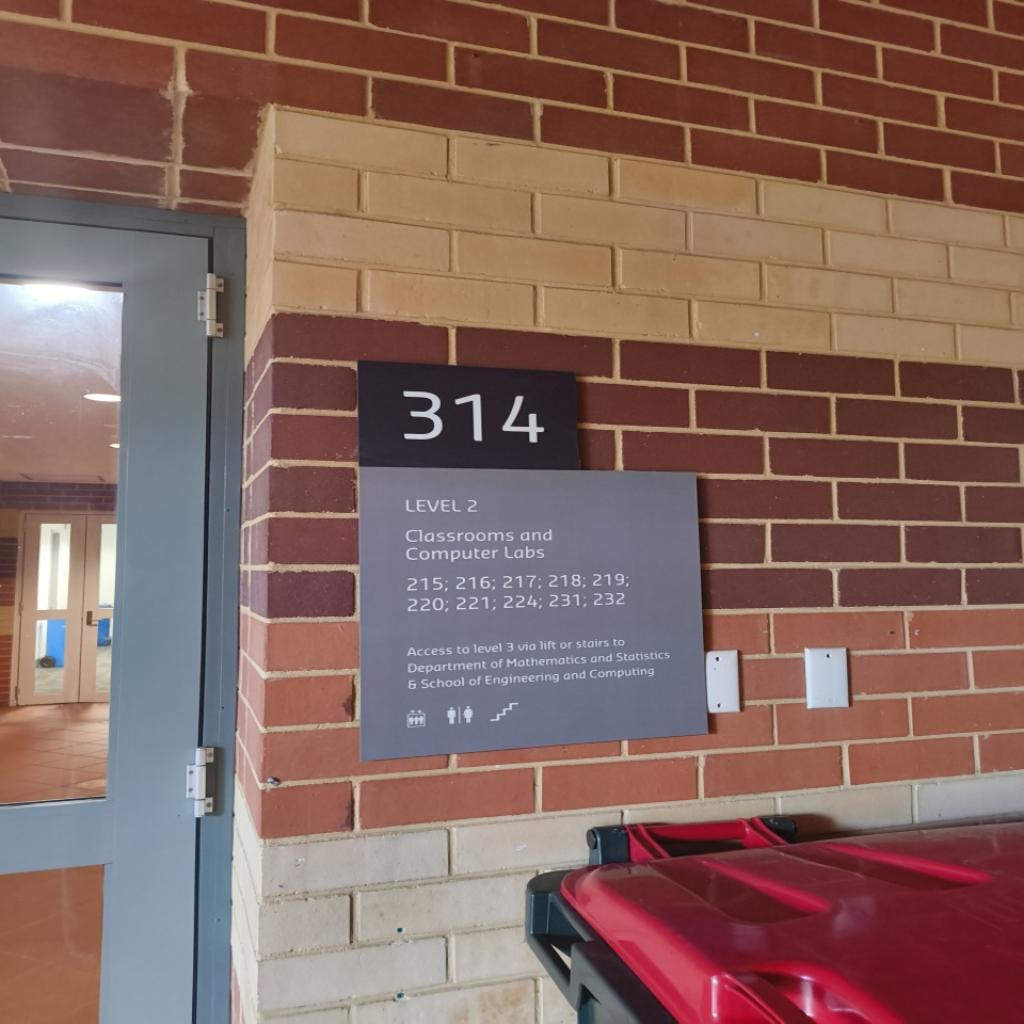BuildingCodes: (399, 385, 549, 453)
